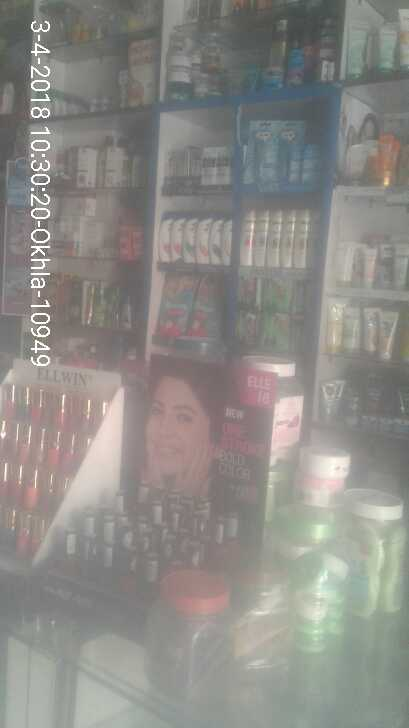venus: (274, 121, 304, 183), (246, 120, 274, 183), (306, 144, 322, 184)
